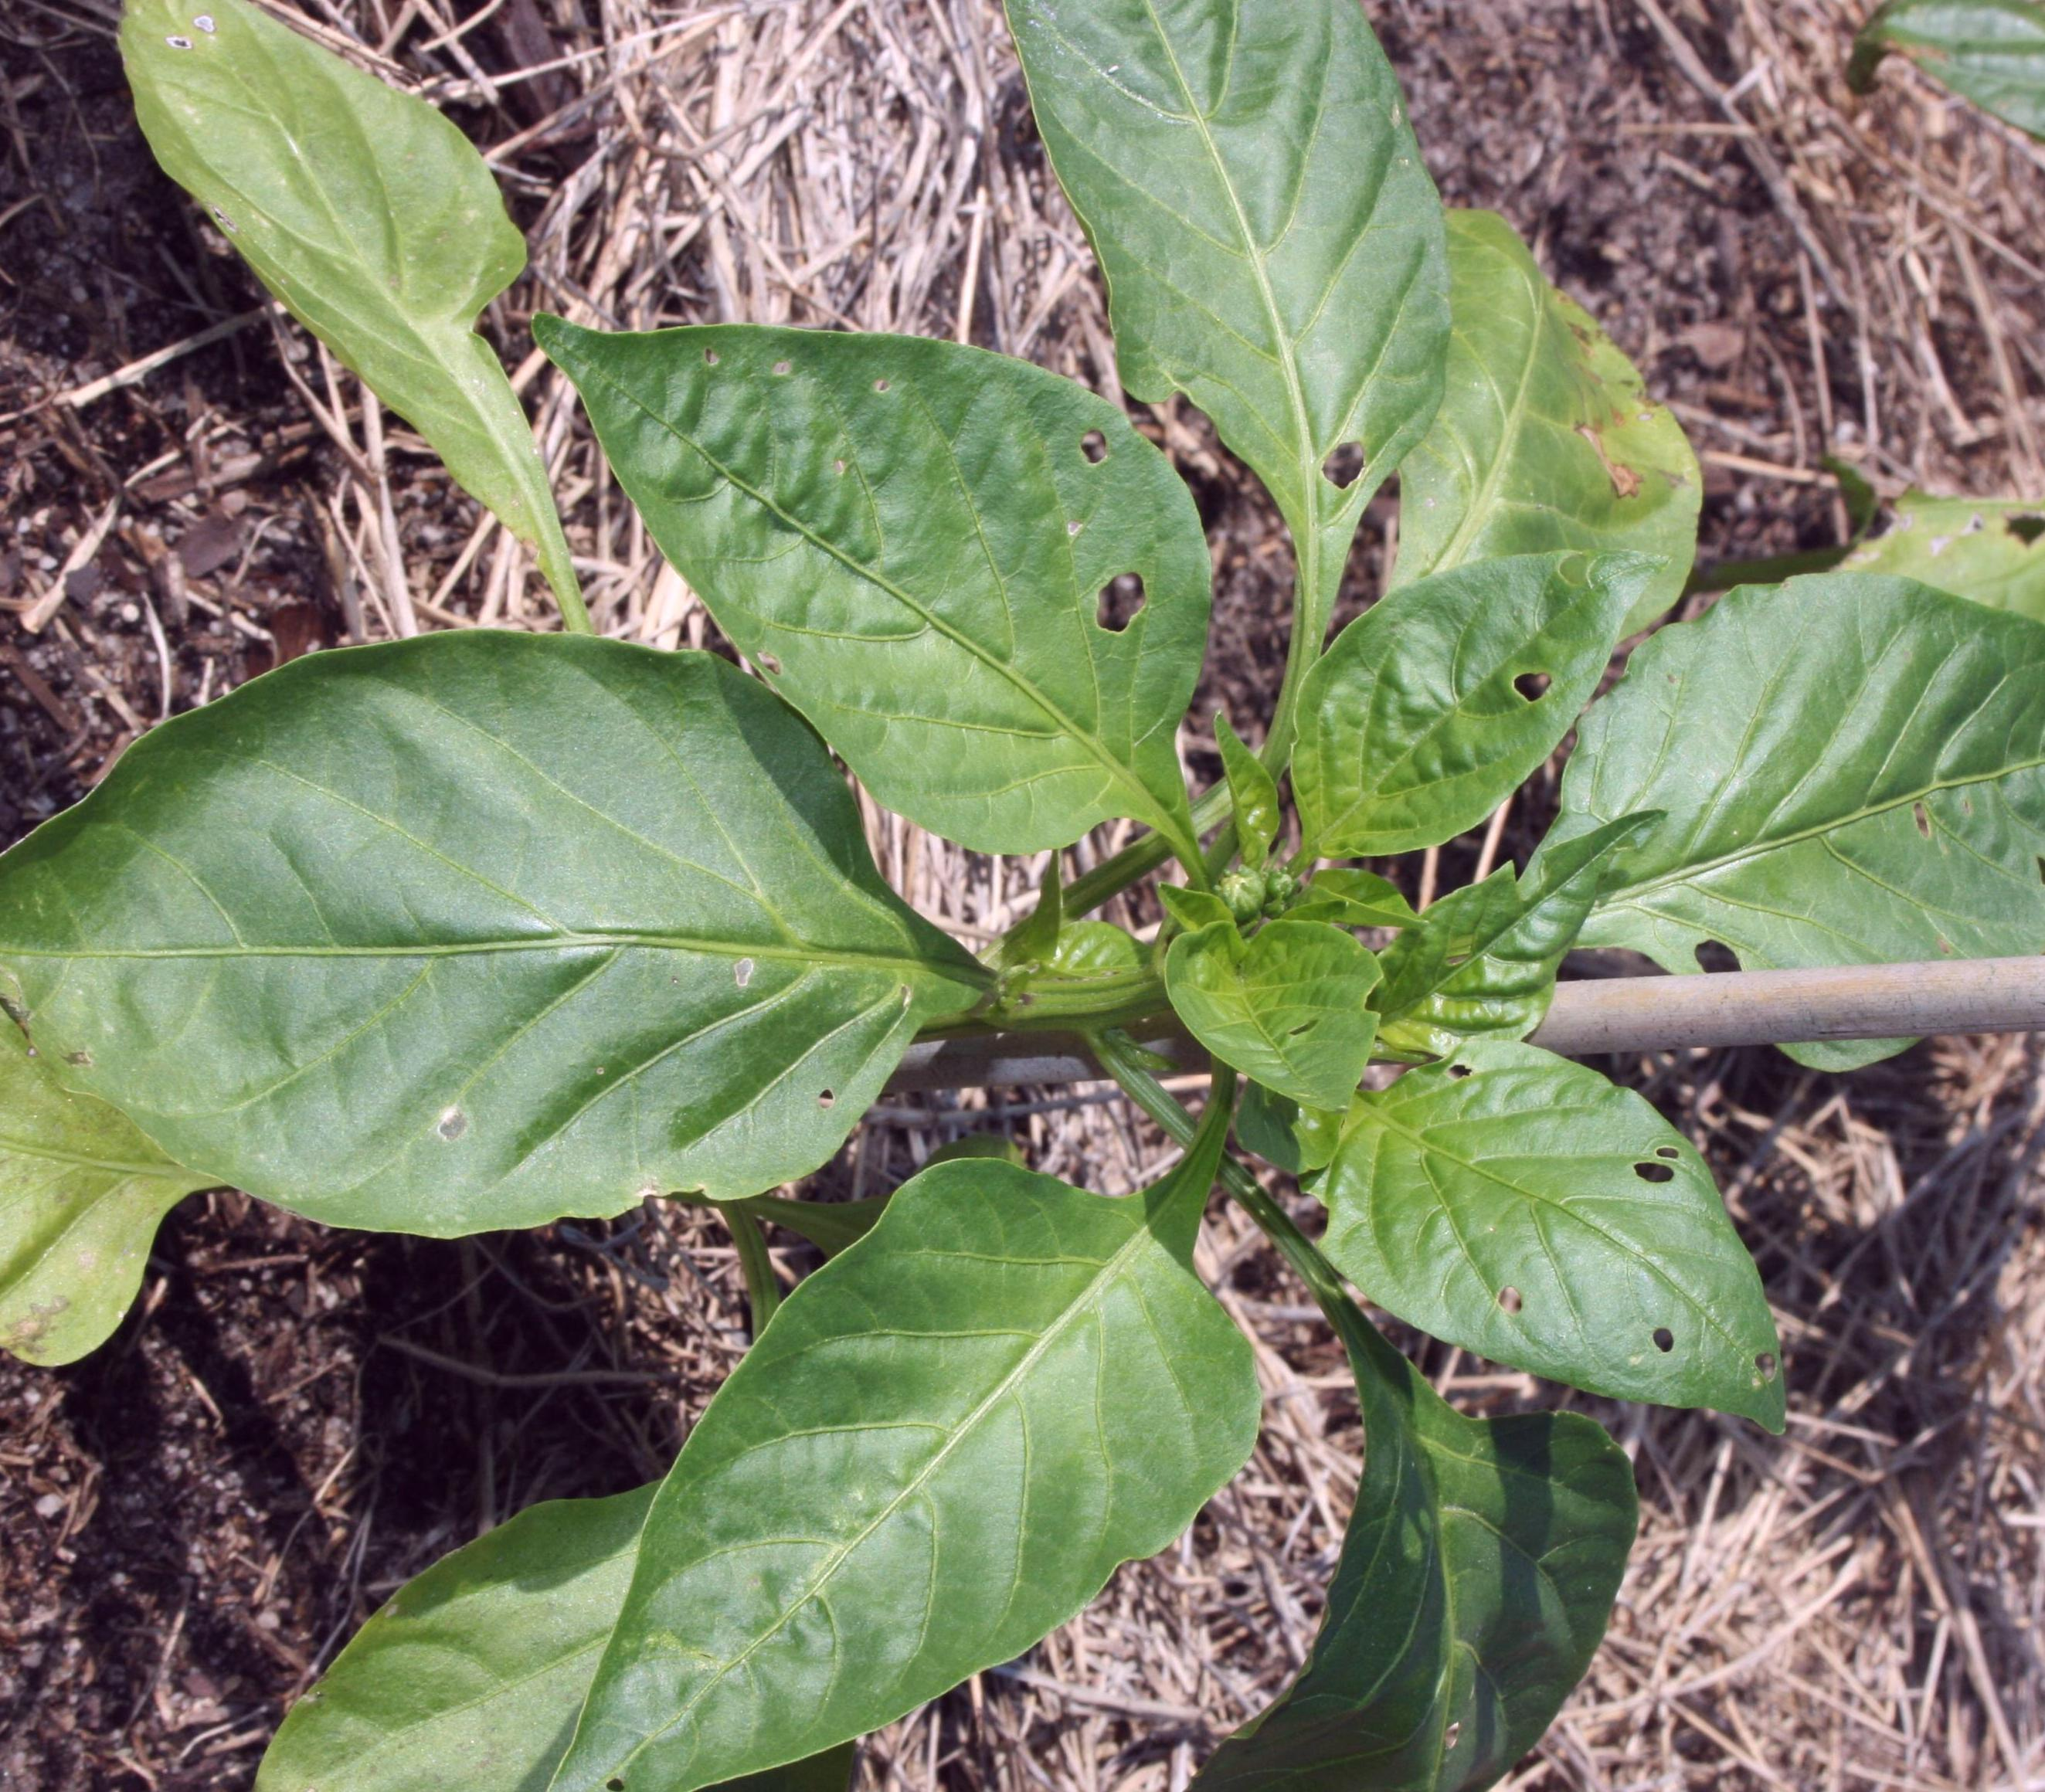Tomato leaf: (0, 643, 931, 1210), (534, 1122, 1259, 1792), (508, 195, 1237, 854), (122, 0, 619, 610), (972, 0, 1454, 625), (1520, 537, 2045, 1000), (1303, 1059, 1858, 1424)
